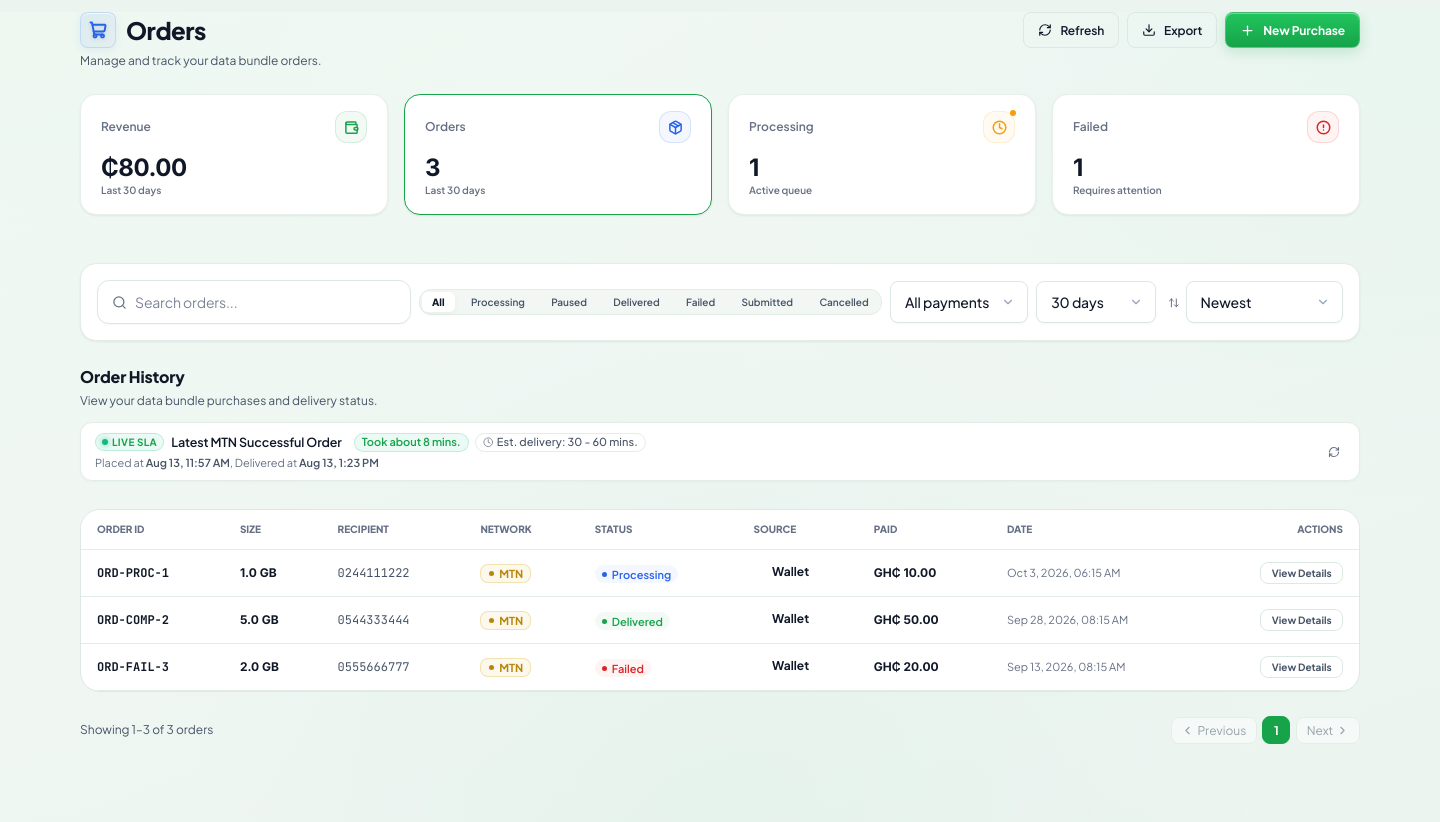
Scenario: Customer & Agent Portal Filter & Sorting Suite › Customer OrdersPage Filters & Sorting › dynamically updates summary cards (Revenue, Orders, Processing, Failed) when filters change
The width and height of the screenshot is (1440, 822).
Expected: the text "ORD-PROC-1" is shown, 81,550 -> 224,597
Expected: the text "₵80.00" is shown, 101,153 -> 187,182
Note: Click "Delivered" tab
Click the button "Delivered": click(636, 302) 603,292 -> 670,312
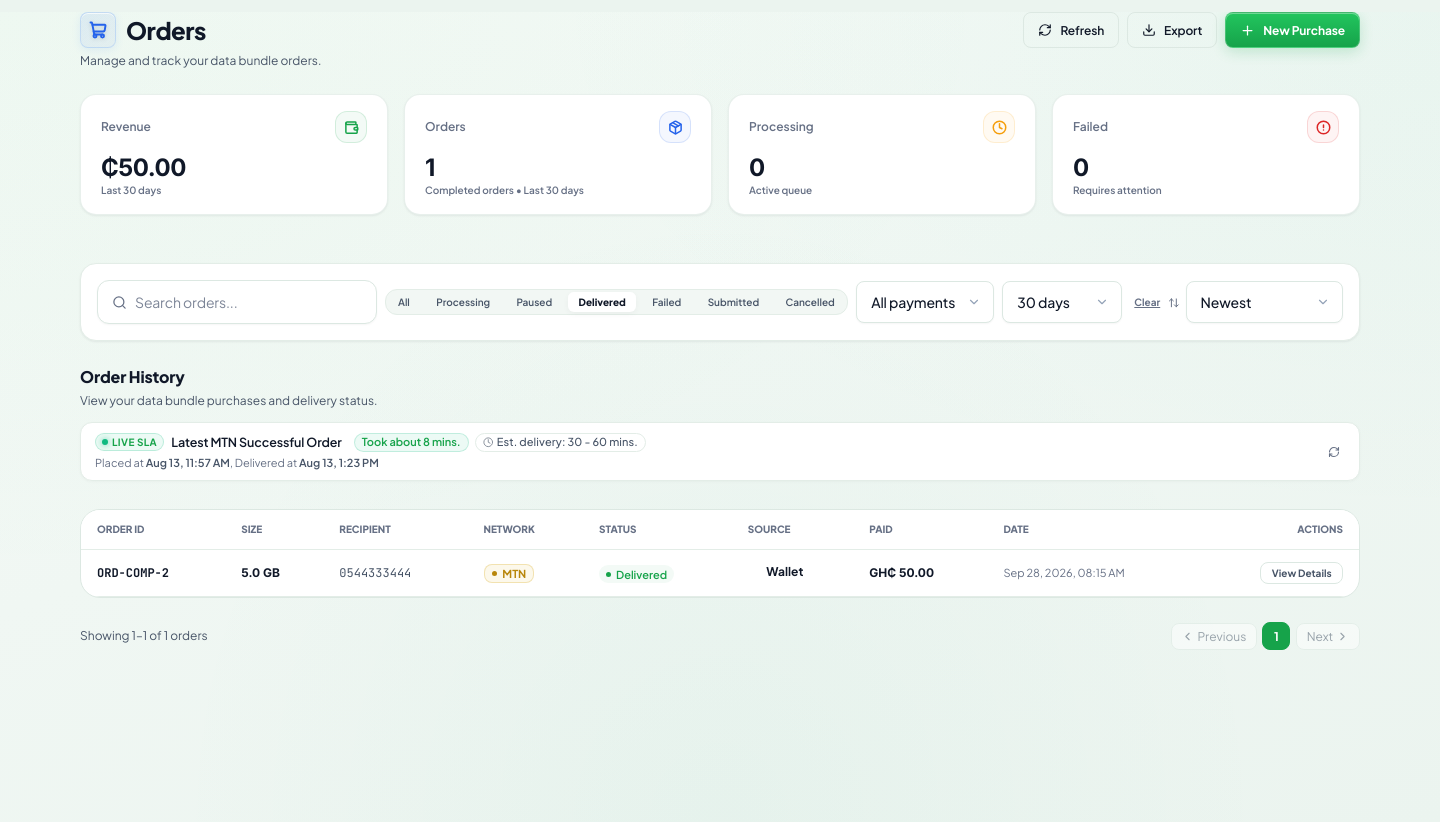
Now the text "₵50.00" is shown, box 101,153 -> 186,182
Now the text "1" is shown, box 425,153 -> 435,182
Now the text "Completed orders • Last 30 days" is shown, box 425,184 -> 584,196
Note: Clicking Orders card resets status filter to ALL
Click the element titled "Click to view all orders": click(558, 155) 404,94 -> 712,215
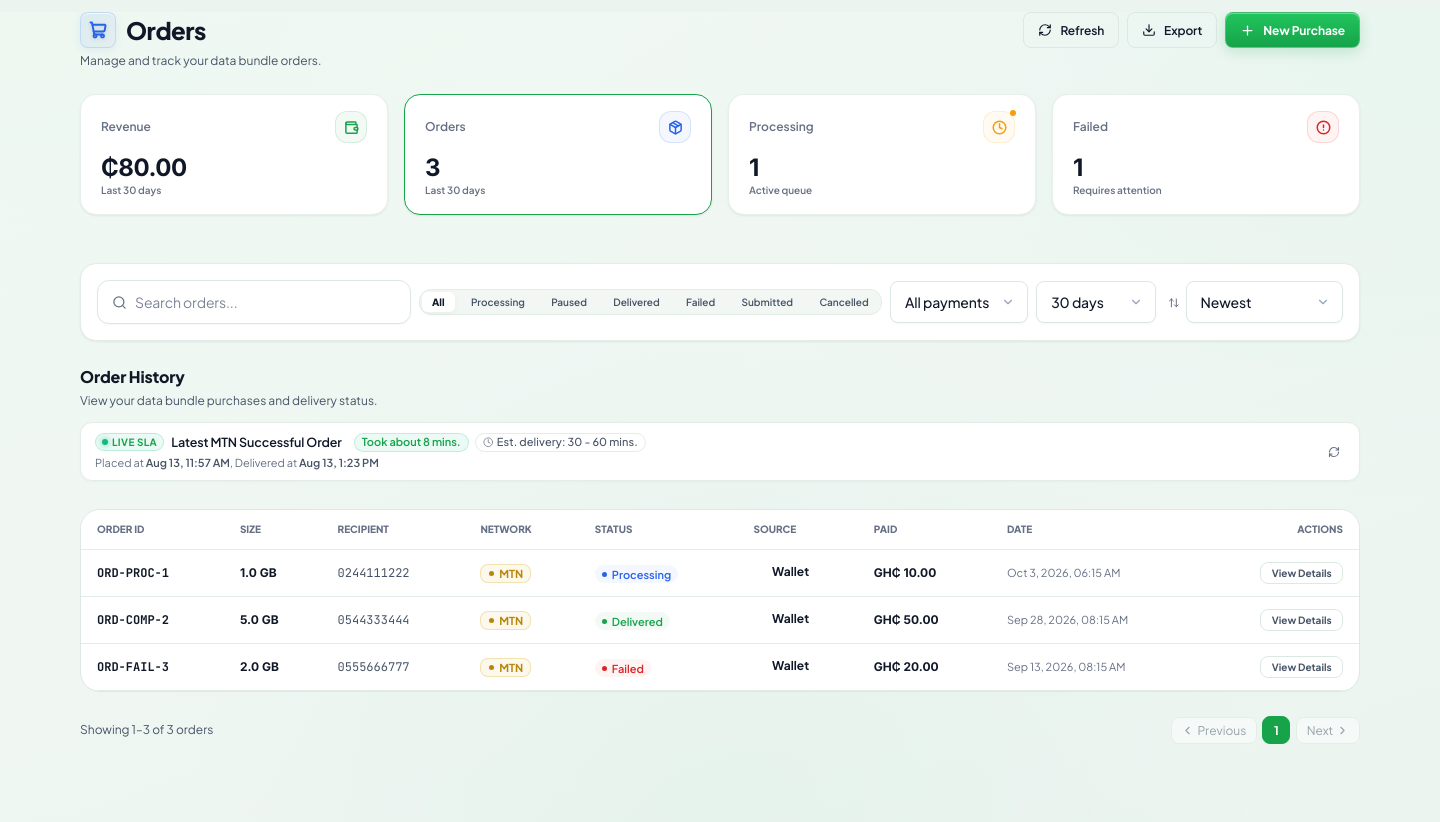
Now the text "₵80.00" is shown, box 101,153 -> 187,182
Now the text "3" is shown, box 425,153 -> 440,182
Note: Clicking Revenue card toggles amount sorting
Click the element titled "Click to sort by amount (Highest / Lowest)": click(234, 155) 80,94 -> 388,215
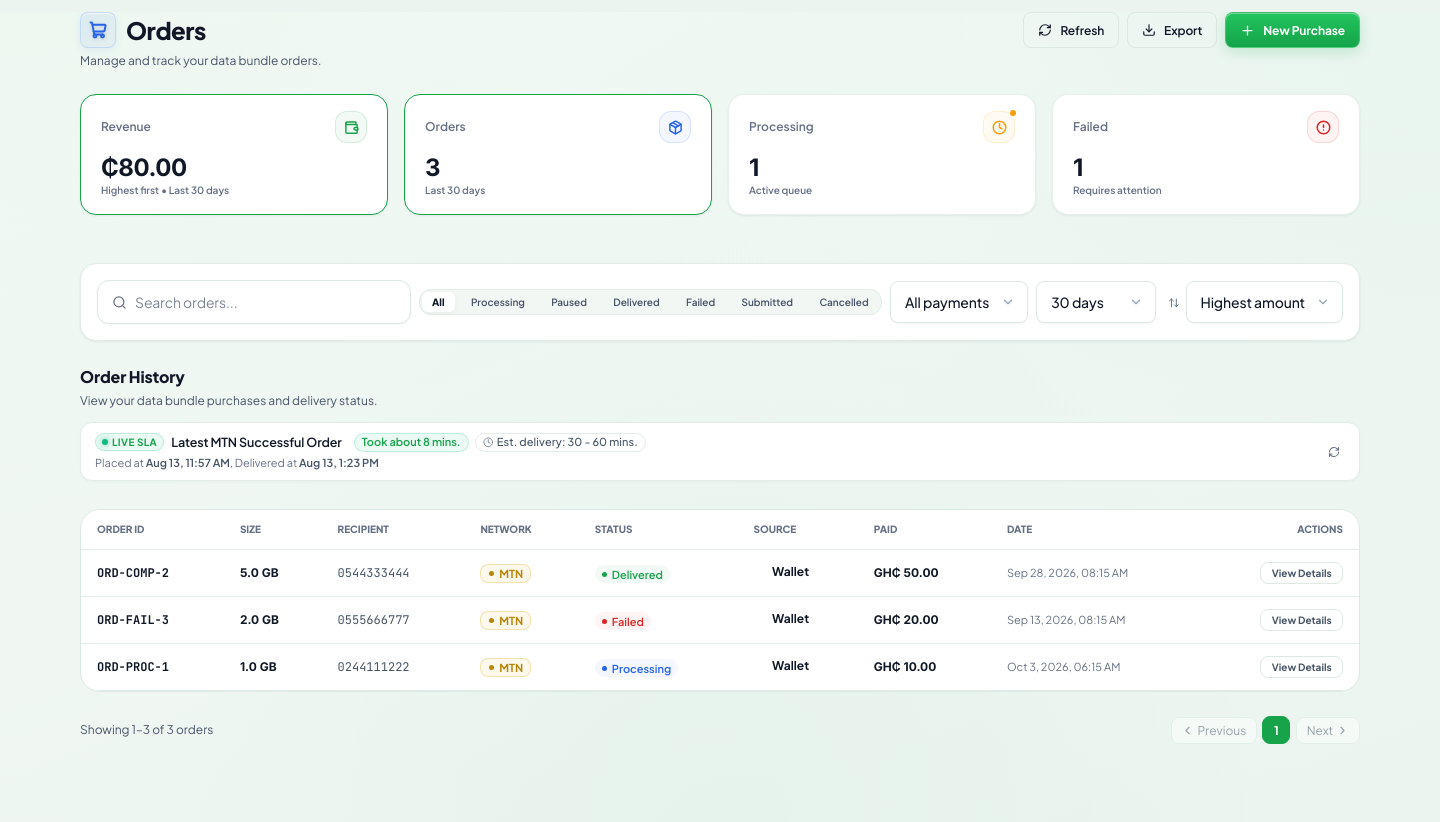
Now the text "Highest first • Last 30 days" is shown, box 101,184 -> 229,196
